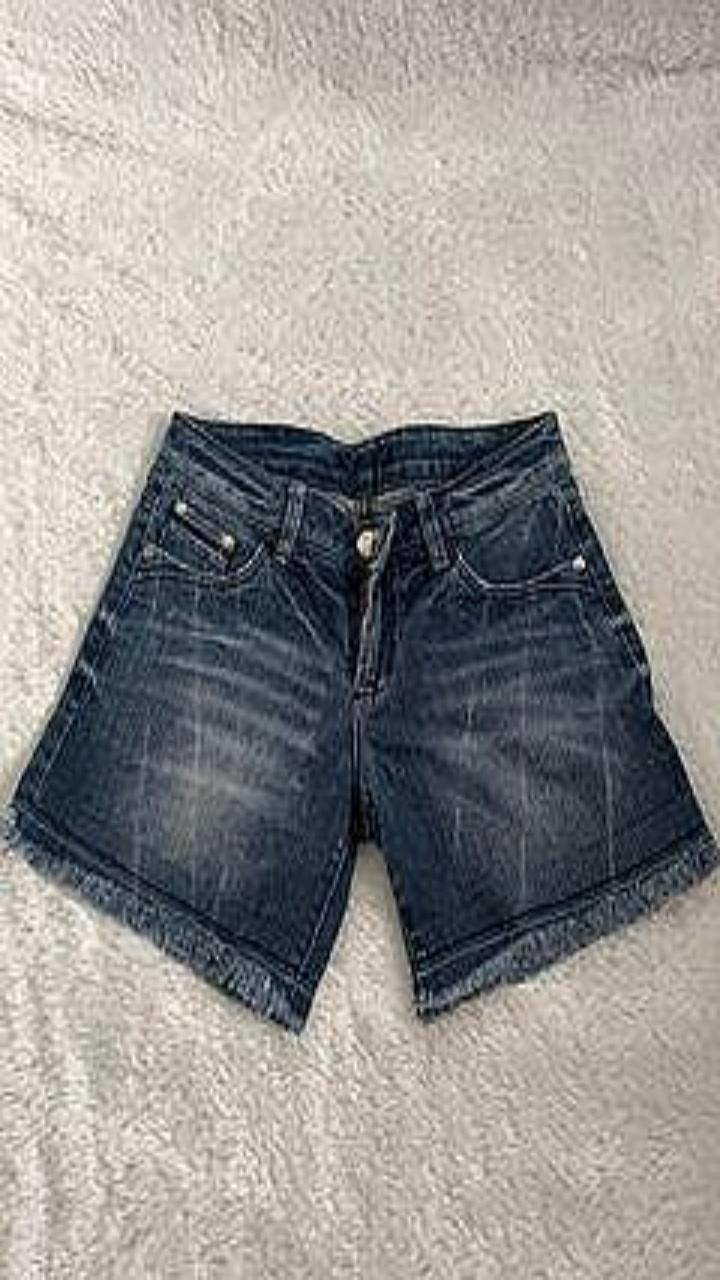Shorts: (3, 411, 719, 1031)
